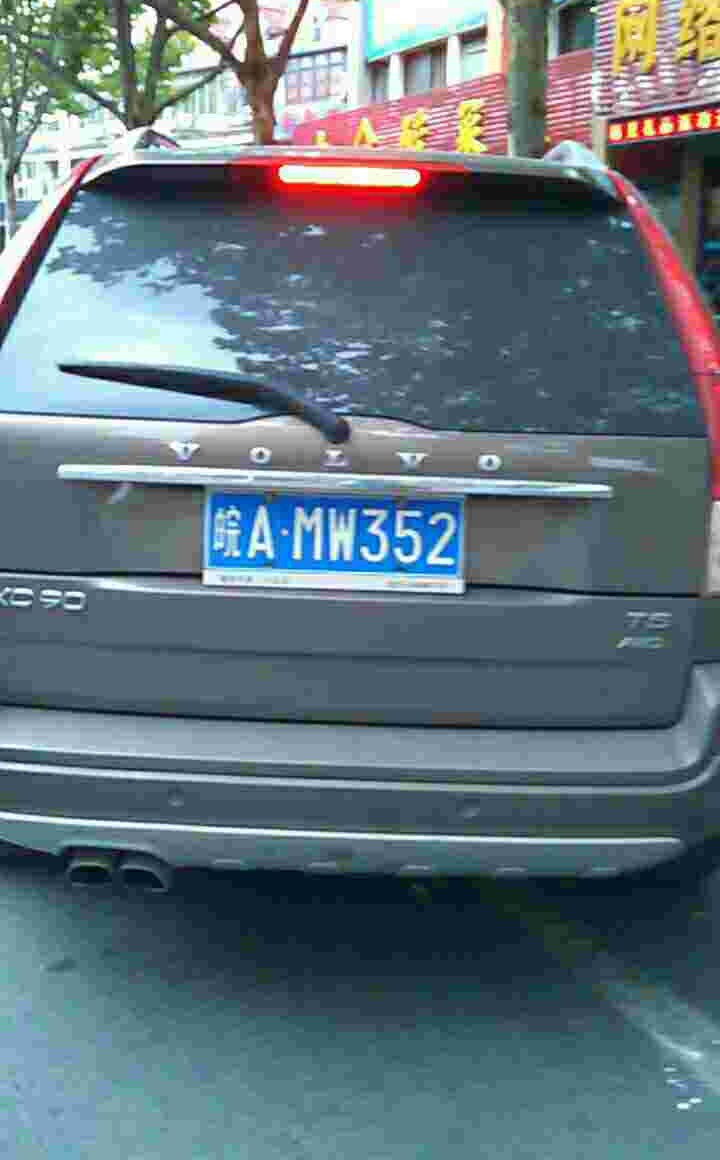license_plate: (211, 496, 459, 580)
